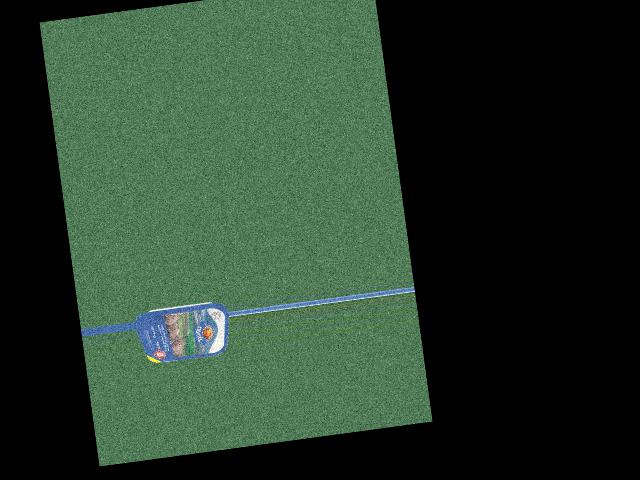cheese: (142, 294, 227, 366)
